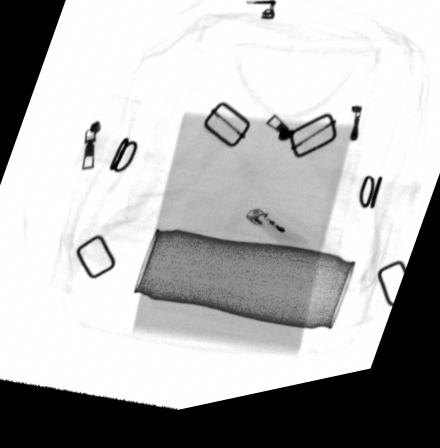Lighter: (245, 218, 310, 270)
